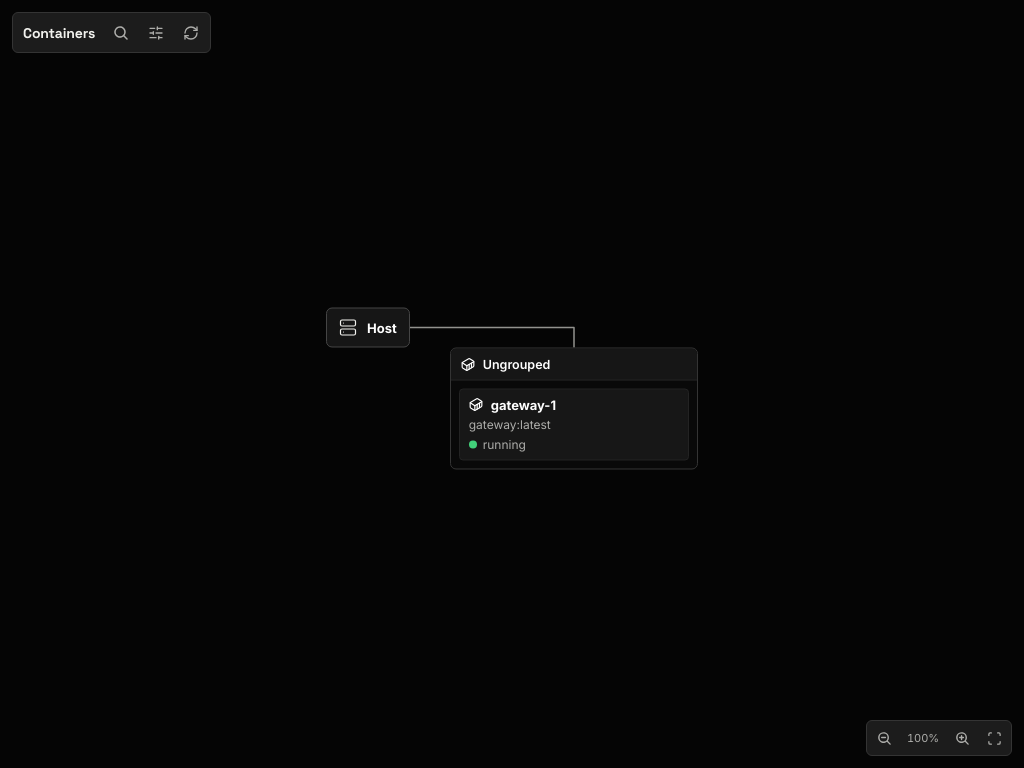
Test: DockerPane container inspection › hides stale details while the selected container is outside the search
Click the button "gateway-1 gateway:latest running".
click(574, 424)  # box [459,388,689,460]
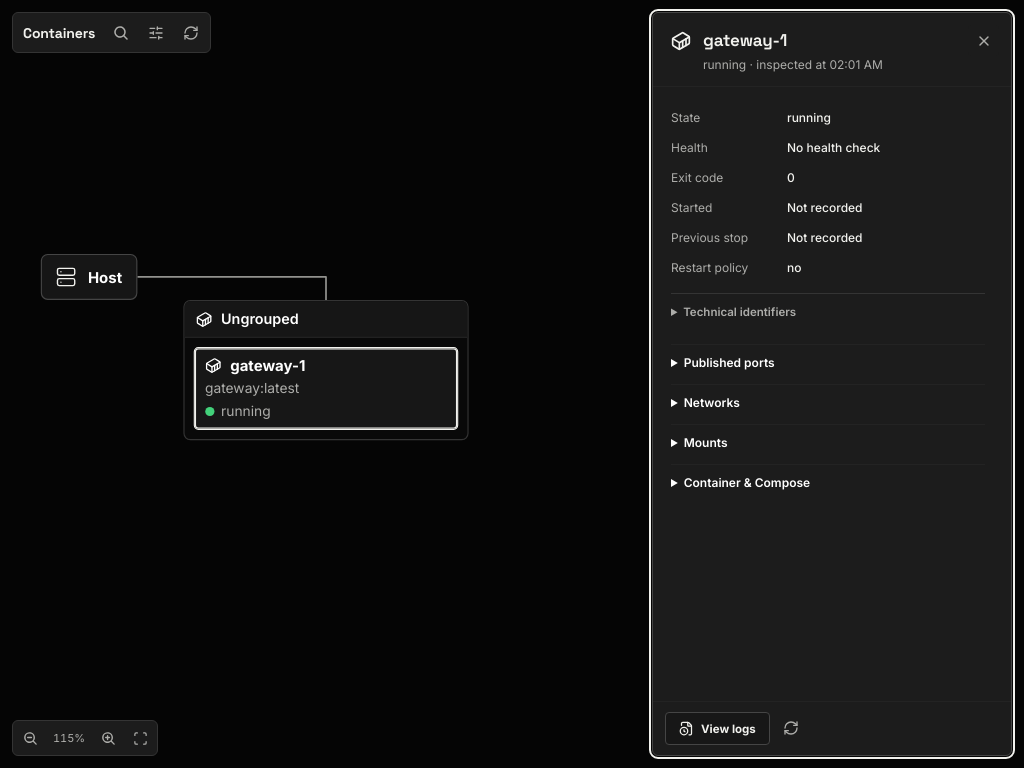
Expected: the heading "gateway-1" is shown, [703,29,787,51]
Click the button named "Find containers".
click(121, 32)  # box [105,17,136,48]
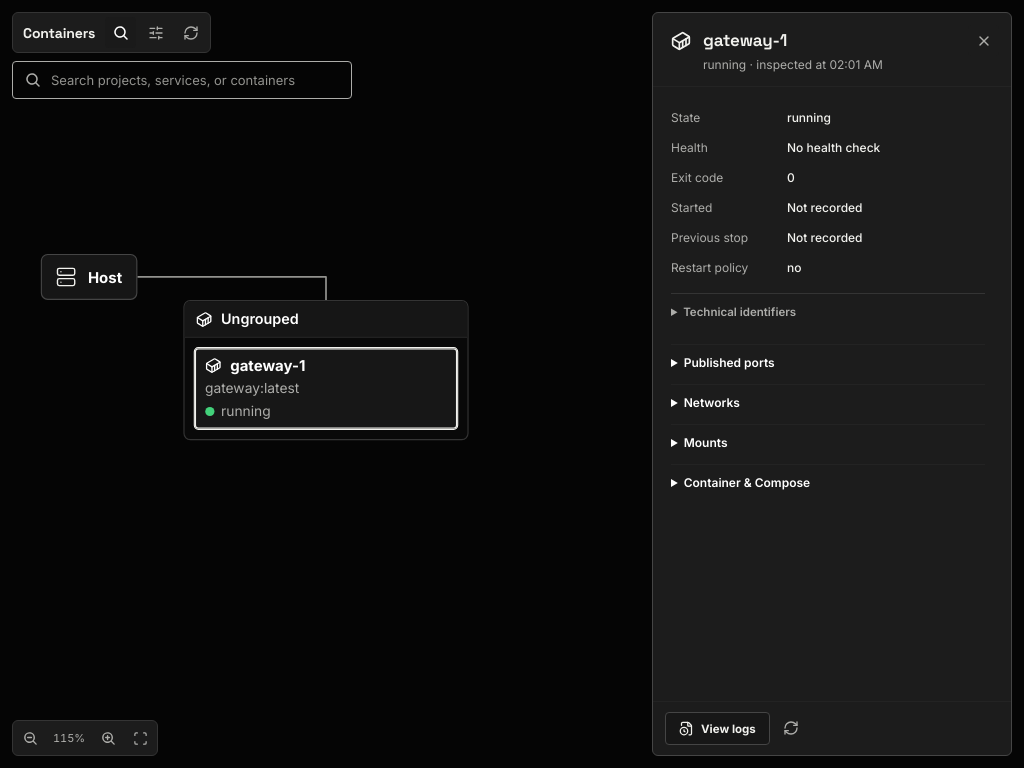
Type "database" into the field with placeholder "Search projects, services, or containers".
click(180, 80); type("database")  # box [51,62,309,98]
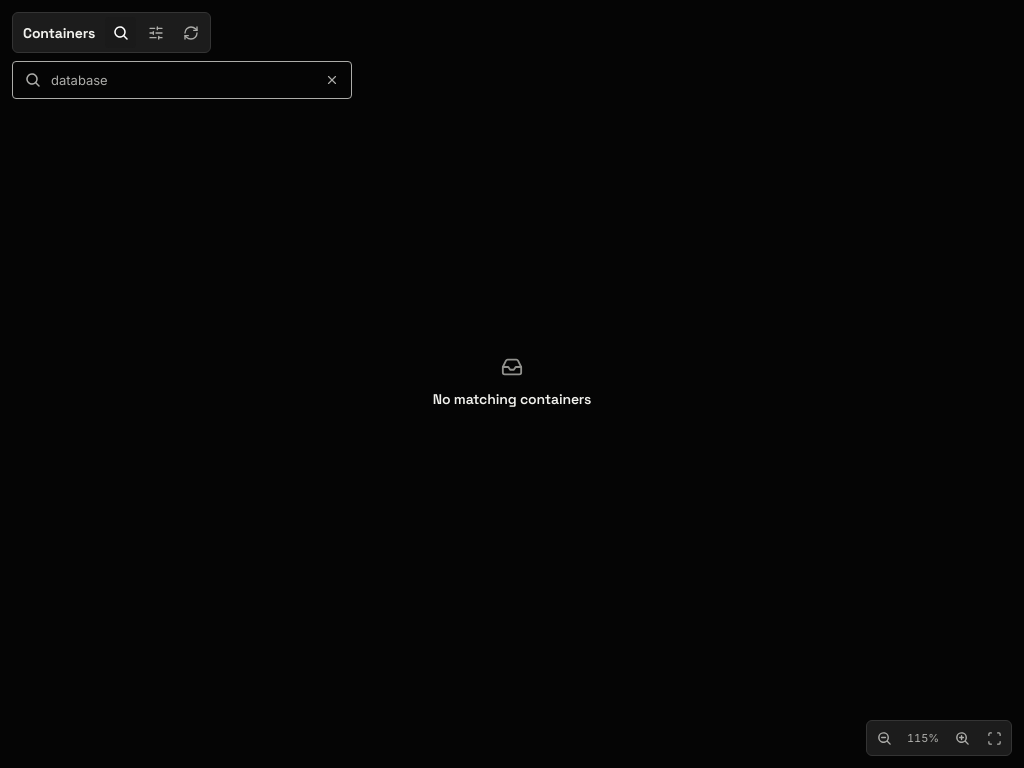
Expected: the button "gateway-1" is gone
Expected: the number of headings "No matching containers" is 1, [433,390,591,408]
Click the button named "Clear search".
click(332, 80)  # box [319,67,345,93]
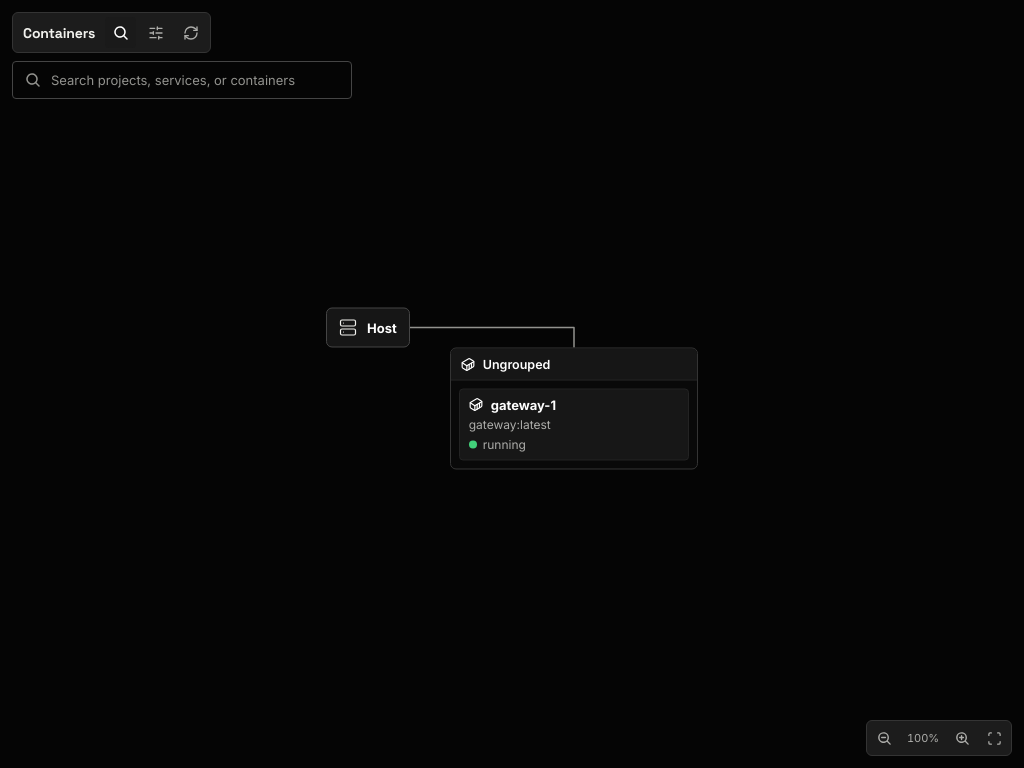
Click the button "gateway-1 gateway:latest running".
click(574, 424)  # box [459,388,689,460]
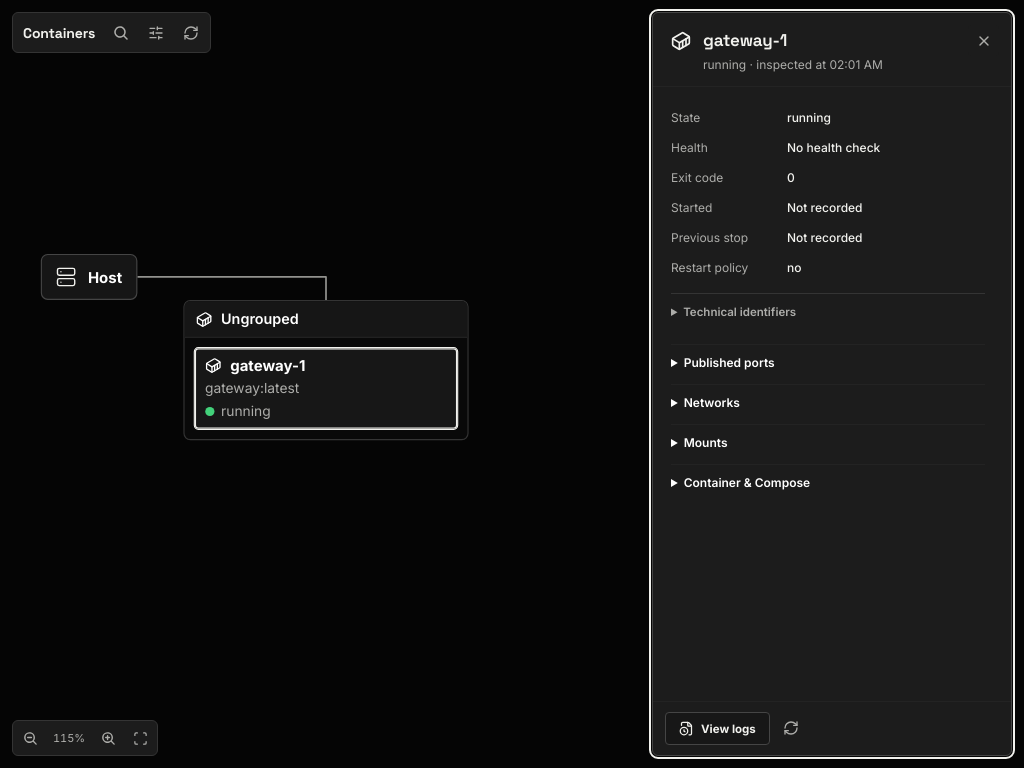
Expected: the heading "gateway-1" is shown, [703,29,787,51]
